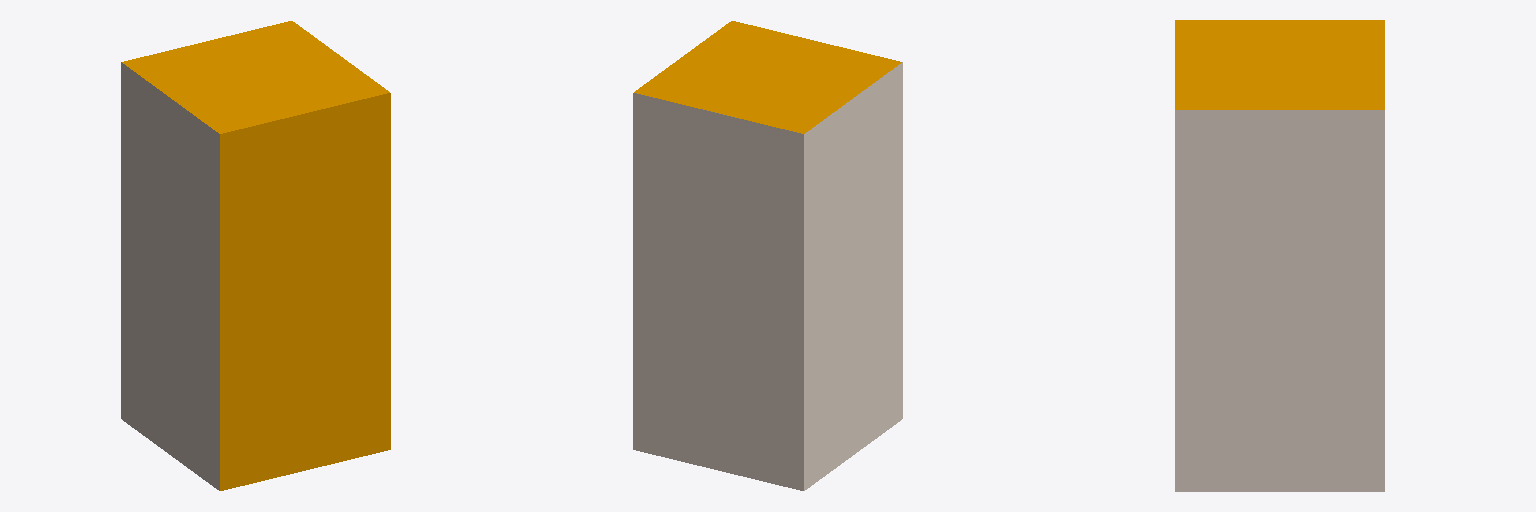
The robot description file, URDF, robot "bishopW2":
<?xml version='1.0' encoding='UTF-8'?>

<robot name="bishopW2">

    <link name="base">
        <visual>
            <origin xyz="0 0 0" rpy="0 0 0" />
            <geometry>
                <mesh filename="meshes/bishopW2.dae" scale="1.0 1.0 1.0"/>
            </geometry>
        </visual>
        <collision>
            <origin xyz="0 0 0" rpy="0 0 0" />
            <geometry>
                <box size="0.03 0.03 0.06" />
            </geometry>
        </collision>
    </link>

</robot>

--- Facts derived from the render (not from the file) ---
The picture shows the robot from 3 angles, left to right: view 1: azimuth 30°, elevation 25°; view 2: azimuth 150°, elevation 25°; view 3: azimuth 270°, elevation 25°; orthographic projection.
Model bishopW2 with 1 links and 0 joints (none), rooted at base, posed all joints at 0.
Visible links, largest first — view 1: base; view 2: base; view 3: base.
Link boxes in pixels (bbox=[...]): base: bbox=[121, 21, 390, 490]; base: bbox=[633, 21, 902, 490]; base: bbox=[1175, 20, 1384, 491].
Bounding box of the posed robot: 0.03 × 0.03 × 0.06 m (x, y, z).
1 mesh visuals loaded from 1 distinct referenced files (1 Collada DAE).
